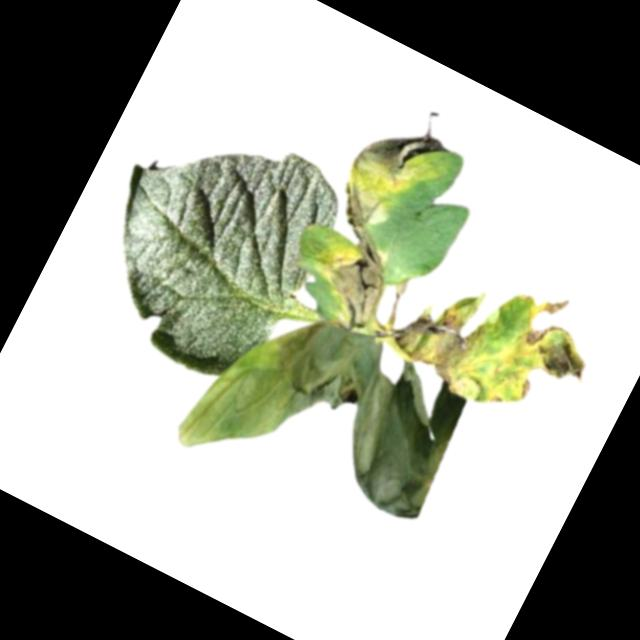Late_blight: (171, 278, 480, 556), (379, 235, 615, 445), (325, 109, 458, 257), (301, 227, 402, 332)
